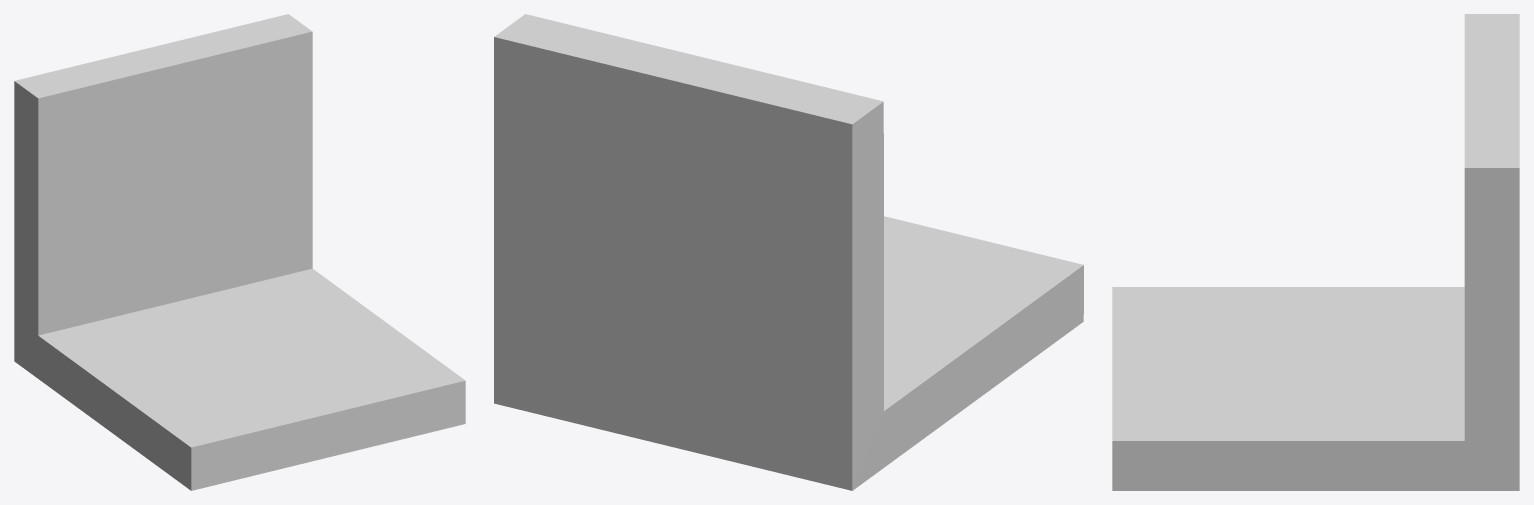
File: Itr_Officechair_Seat_06.FBX
3 renders of one model, left to right at view 1: azimuth 30°, elevation 25°; view 2: azimuth 150°, elevation 25°; view 3: azimuth 270°, elevation 25°, orthographic. The views are drawn at different scales.
Visible parts, largest first — view 1: Itr_Officechair_Seat_06; view 2: Itr_Officechair_Seat_06; view 3: Itr_Officechair_Seat_06.
Boxes of the visible parts, x1,y1,x2,y2 form: Itr_Officechair_Seat_06: [14, 14, 465, 490]; Itr_Officechair_Seat_06: [494, 14, 1083, 490]; Itr_Officechair_Seat_06: [1112, 14, 1519, 490].
Size of the model in its own units: 25.33 by 24.73 by 28.29.
